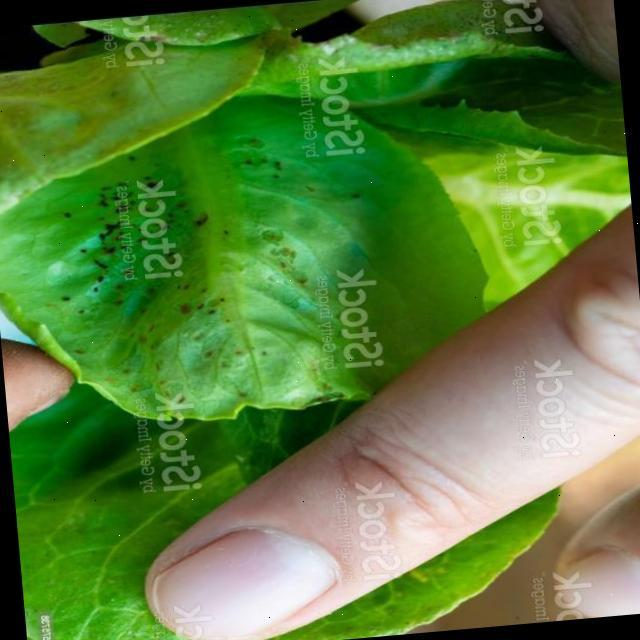Bacterial: (86, 142, 389, 399)
